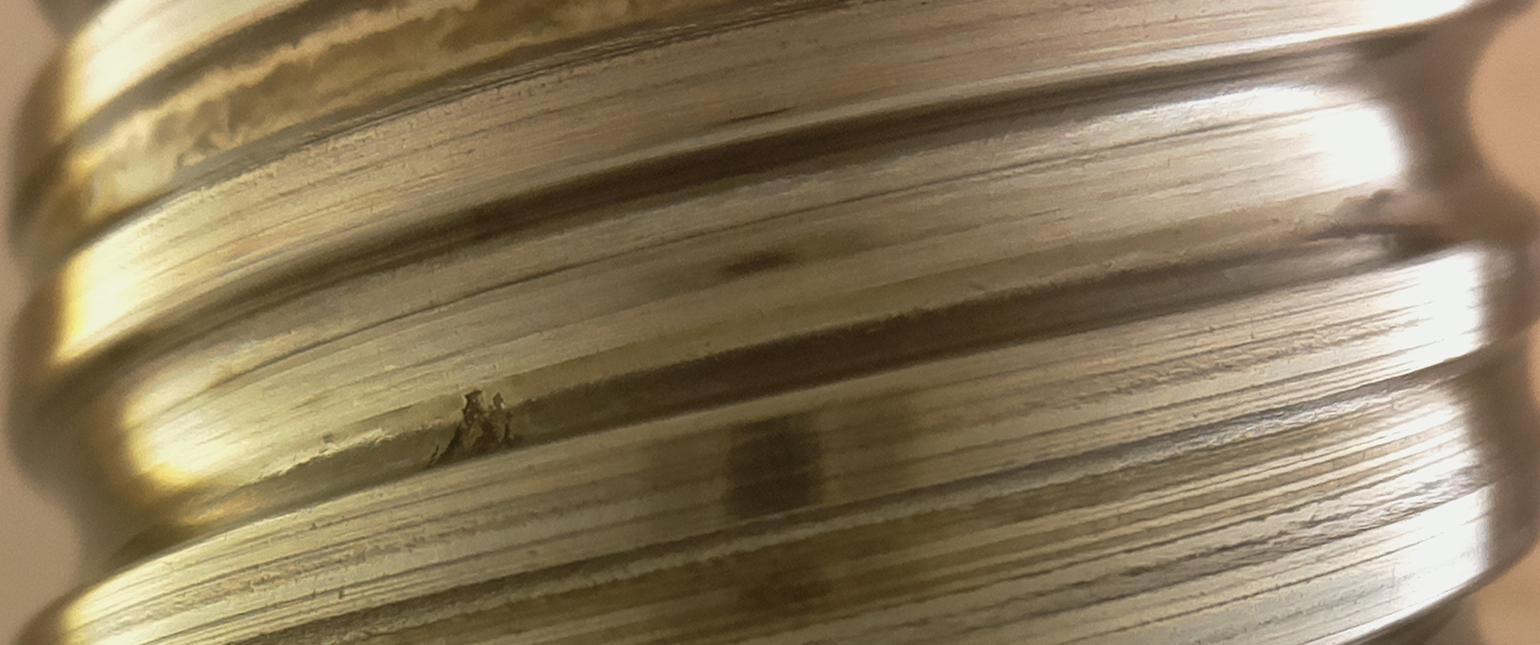pitting: (427, 390, 522, 466)
